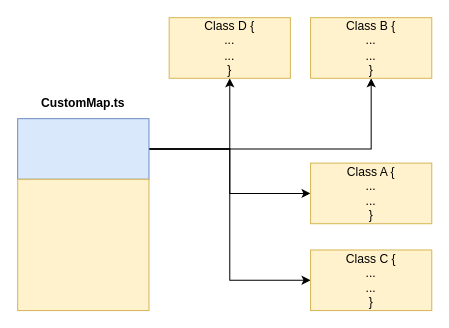
The diagram is 449 pixels wide and 328 high, and some of its shapes have lost their labels. Here are the shapes that lost their labels. From the top down, the box of each, then its label:
(17, 118, 149, 179): import A from A; import B from B; import C from C; import D from D;
(17, 178, 149, 311): class CustomMap { foo (obj:A | B | C | D) }
